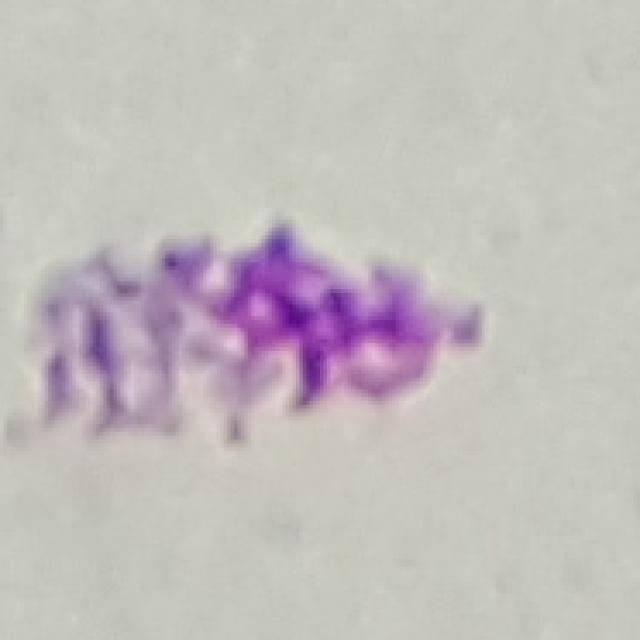non-sperm: (25, 218, 486, 448)
